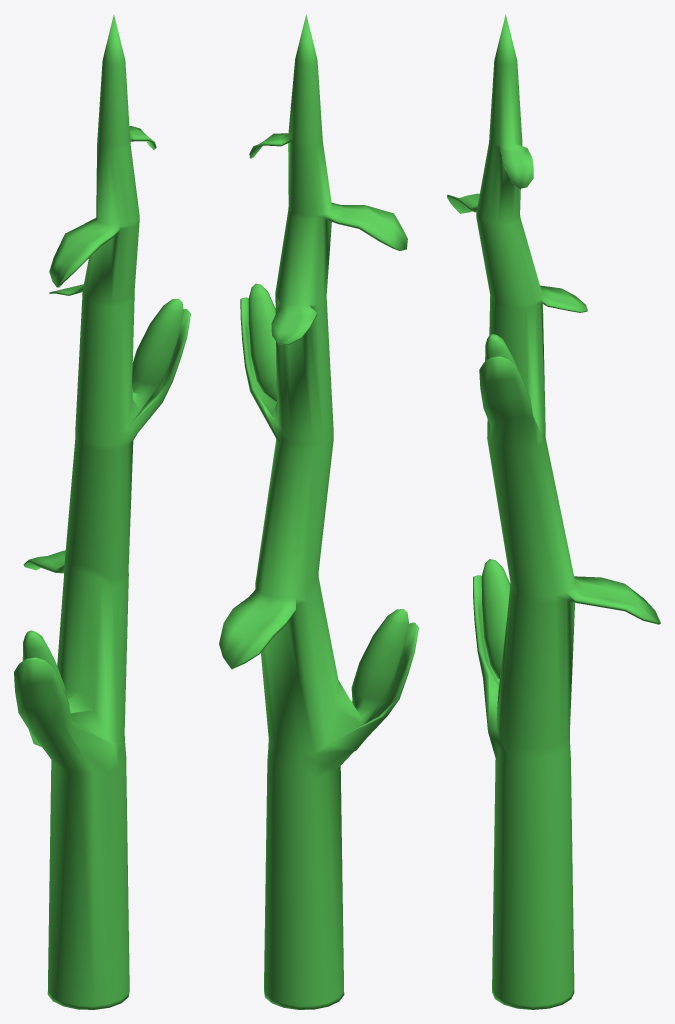
Rendered from Stage2.fbx.
The picture shows the model from 3 angles, left to right: view 1: azimuth 30°, elevation 25°; view 2: azimuth 150°, elevation 25°; view 3: azimuth 270°, elevation 25°; orthographic projection. The views are drawn at different scales.
Visible parts, largest first — view 1: Stage2; view 2: Stage2; view 3: Stage2.
Part boxes in pixels (<box>): Stage2: <box>14,14,190,1009</box>; Stage2: <box>219,14,418,1009</box>; Stage2: <box>447,14,660,1009</box>.
Size of the model in its own units: 14.24 by 76.41 by 15.06.
